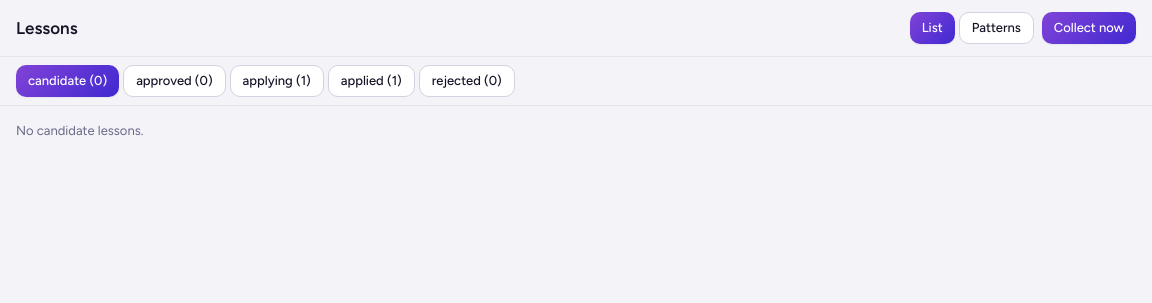
Test: LessonsView › shows the job, PR and applied date on applying and applied lessons
What coordinates should you click on to do the following:
click the tab "applying (1)"
I would click on:
 (277, 81)
Its box is [230,65,324,97].
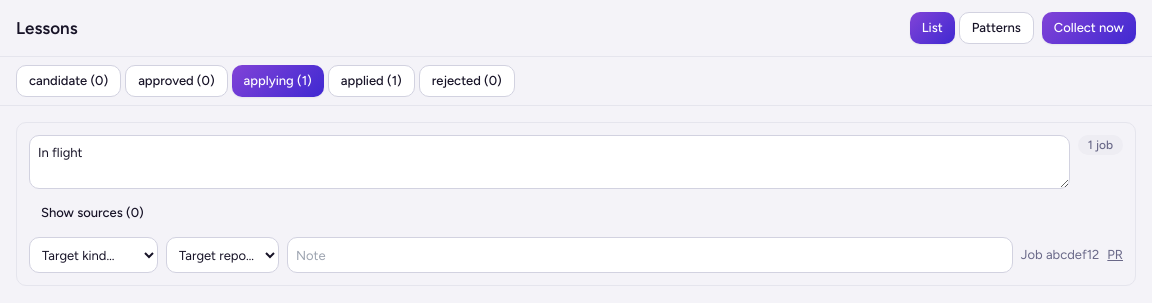
Now the text "Job abcdef12" is shown, box [1021,246,1099,264]
What coordinates should you click on to do the following:
click the tab "applied (1)"
I would click on:
 (371, 81)
Its box is [328,65,415,97].
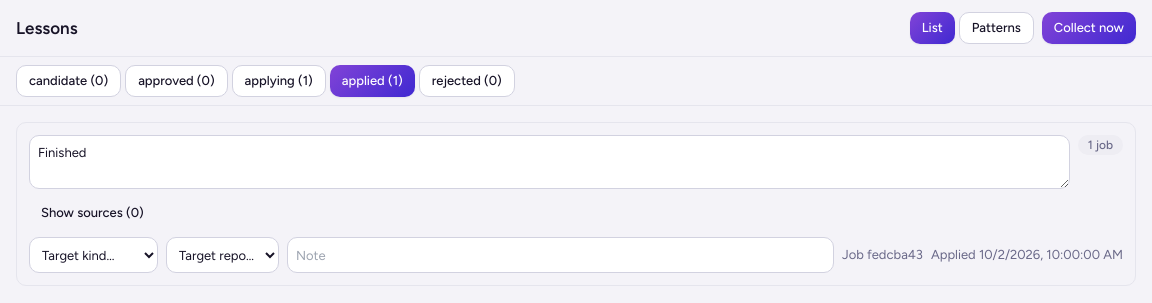
Now the text "Applied 10/2/2026, 10:00:00 AM" is shown, box [931,246,1123,264]
